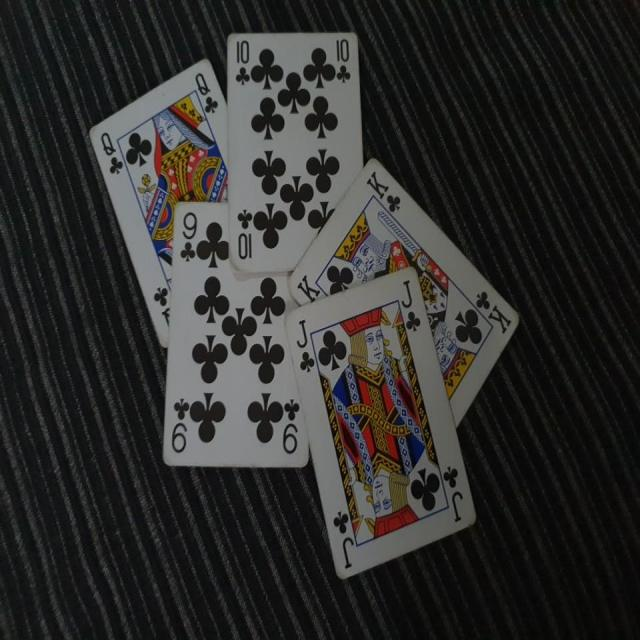10 Trefoils: (226, 29, 363, 272)
9 Trefoils: (161, 194, 312, 468)
J Trefoils: (281, 266, 476, 581)
K Trefoils: (289, 159, 521, 428)
Q Trefoils: (87, 57, 228, 350)
